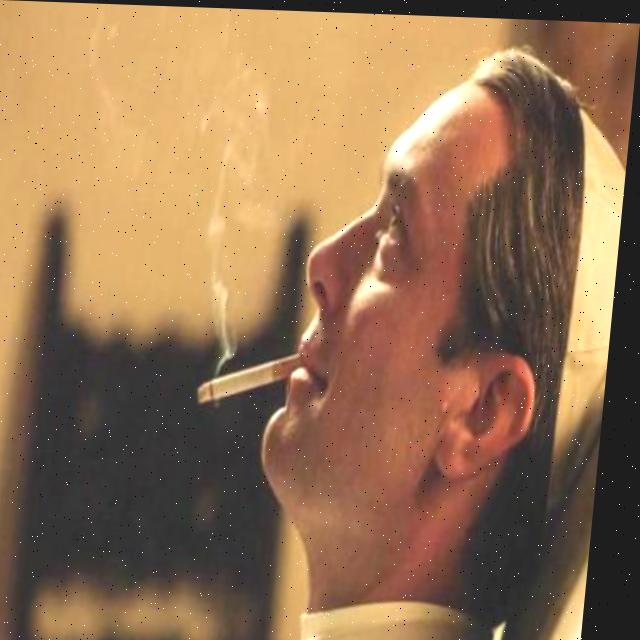cigarette: (204, 344, 308, 410)
